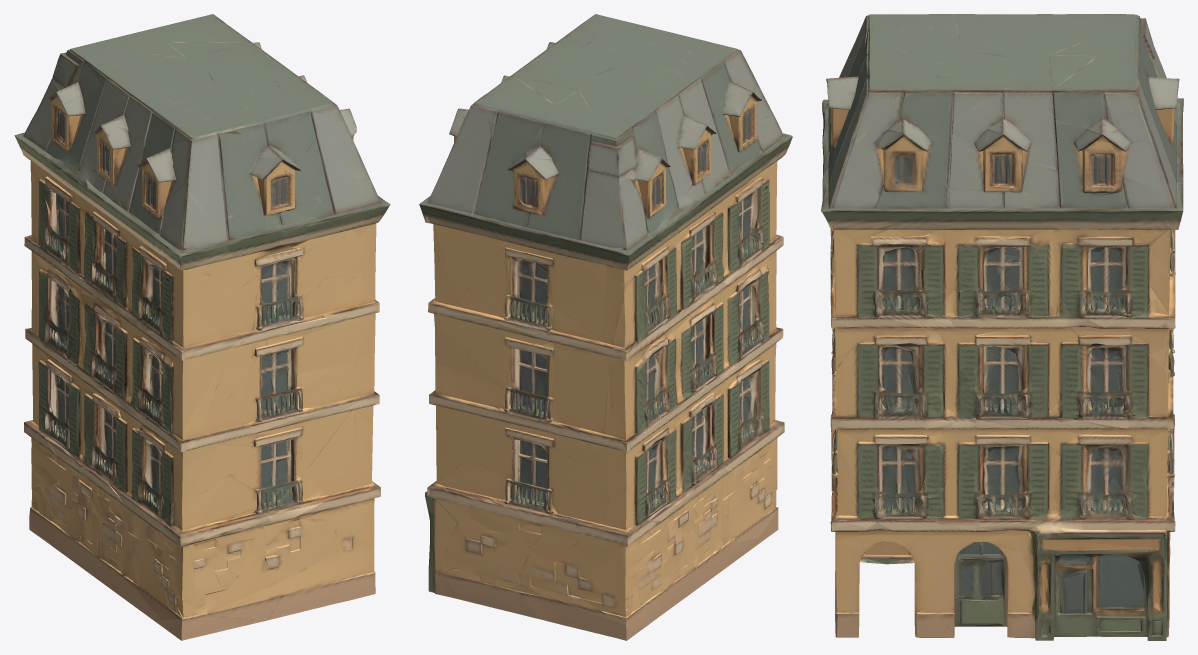
The model's file is building1-optimized.glb.
3 views of the same model, side by side, from view 1: azimuth 30°, elevation 25°; view 2: azimuth 150°, elevation 25°; view 3: azimuth 270°, elevation 25° (orthographic). The views are drawn at different scales.
Parts seen in each view (by area): view 1: output_unwrapped; view 2: output_unwrapped; view 3: output_unwrapped.
Part boxes in pixels (x1,y1,x2,y2): output_unwrapped: (14, 14, 390, 640); output_unwrapped: (419, 14, 792, 640); output_unwrapped: (821, 14, 1183, 640).
Size of the model in its own units: 0.9134 by 2 by 1.23.
1 material, 1 textured.
